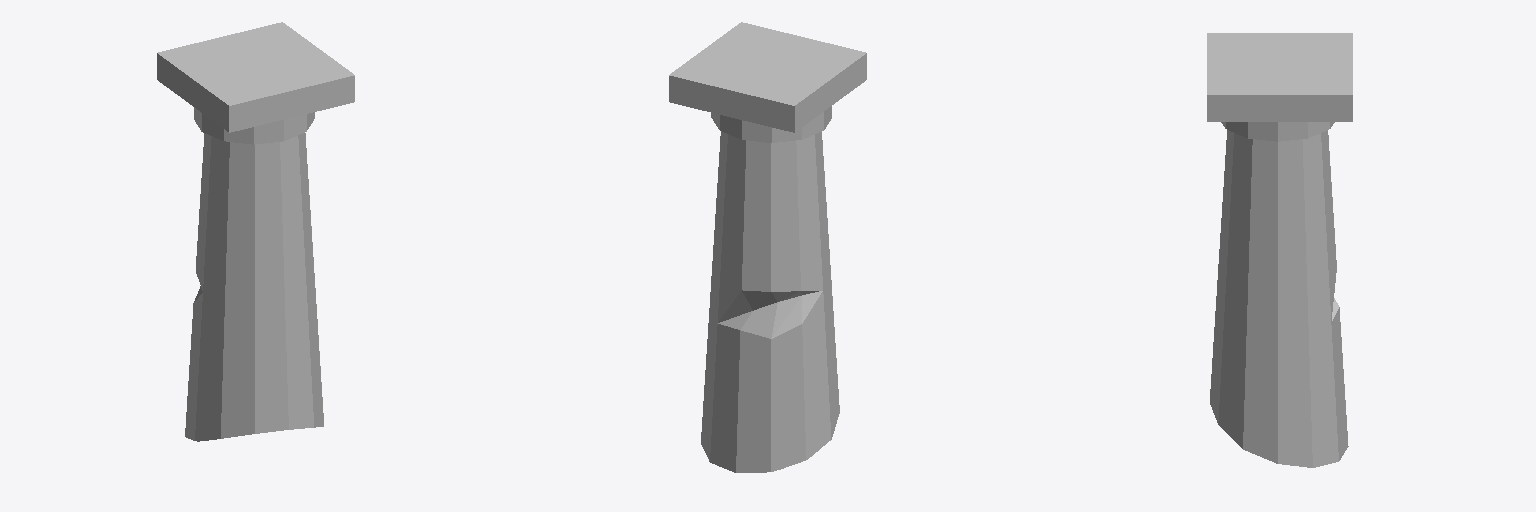
Rendered from col_2.obj.
The picture shows the model from 3 angles: view 1: azimuth 30°, elevation 25°; view 2: azimuth 150°, elevation 25°; view 3: azimuth 270°, elevation 25°; orthographic projection.
Parts seen in each view (by area): view 1: column.002_Cylinder.008; view 2: column.002_Cylinder.008; view 3: column.002_Cylinder.008.
Part boxes in pixels (left/top/right/bottom): column.002_Cylinder.008: left=157, top=22, right=354, bottom=441; column.002_Cylinder.008: left=669, top=22, right=866, bottom=472; column.002_Cylinder.008: left=1207, top=33, right=1352, bottom=467.
Size of the model in its own units: 3.91 by 11.39 by 3.91.